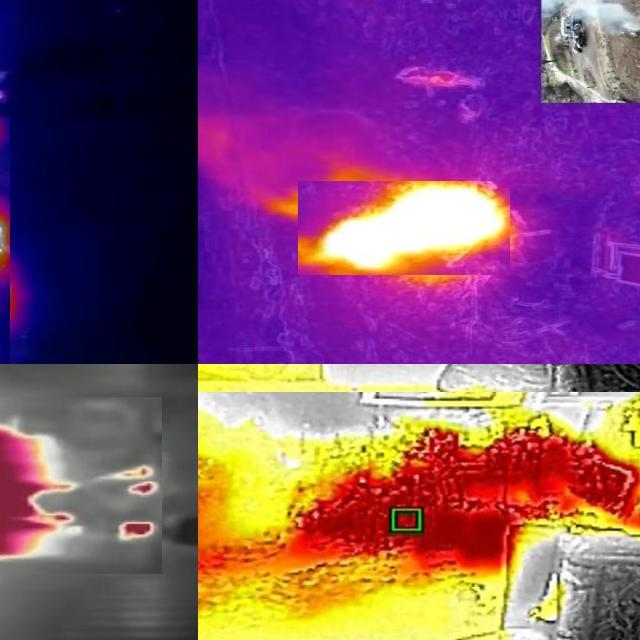fire: (199, 393, 640, 640), (1, 398, 162, 575), (298, 182, 510, 276)
